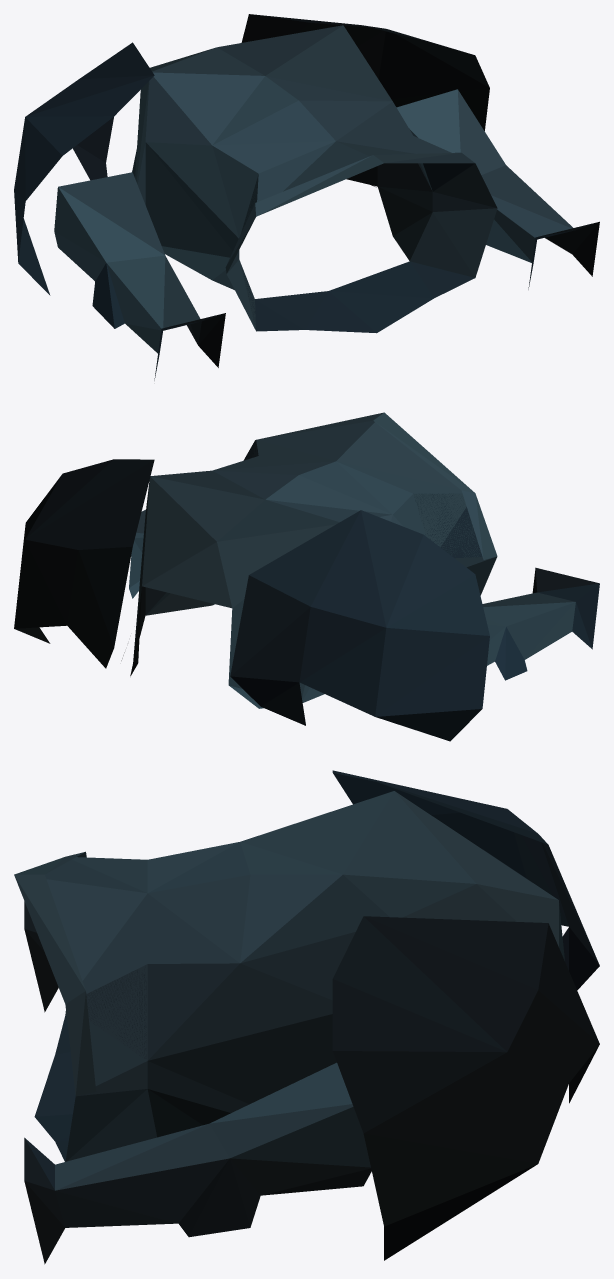
File: runite-platebody.obj
3 renders of one model, top to bottom at view 1: azimuth 30°, elevation 25°; view 2: azimuth 150°, elevation 25°; view 3: azimuth 270°, elevation 25°, orthographic. The views are drawn at different scales.
Parts seen in each view (by area): view 1: Item Rune platebody 2026-09-24_18-19-38; view 2: Item Rune platebody 2026-09-24_18-19-38; view 3: Item Rune platebody 2026-09-24_18-19-38.
Boxes of the visible parts, x1=… form: Item Rune platebody 2026-09-24_18-19-38: x1=14, y1=14, x2=599, y2=380; Item Rune platebody 2026-09-24_18-19-38: x1=14, y1=412, x2=599, y2=741; Item Rune platebody 2026-09-24_18-19-38: x1=14, y1=770, x2=599, y2=1264.
Bounding box in the file's own units: 72 × 30 × 57.
